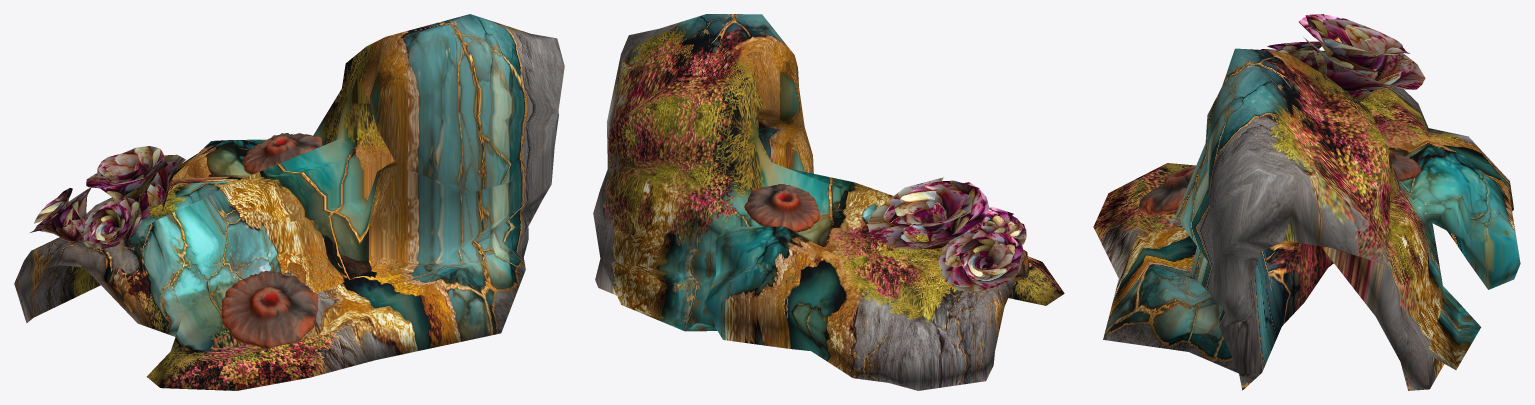
3 views of the same model, side by side, from view 1: azimuth 30°, elevation 25°; view 2: azimuth 150°, elevation 25°; view 3: azimuth 270°, elevation 25° (orthographic). The views are drawn at different scales.
Parts seen in each view (by area): view 1: MSH_Base_05_Main, MSH_Base_05_Coral.002, MSH_Base_05_Coral; view 2: MSH_Base_05_Main, MSH_Base_05_Coral.002, MSH_Base_05_Coral; view 3: MSH_Base_05_Main, MSH_Base_05_Coral.002, MSH_Base_05_Coral.
Boxes of the visible parts, box(x1,y1,x2,y2) form: MSH_Base_05_Main: box(14, 14, 564, 390); MSH_Base_05_Coral.002: box(30, 146, 185, 248); MSH_Base_05_Coral: box(221, 133, 322, 349); MSH_Base_05_Main: box(593, 14, 1064, 390); MSH_Base_05_Coral.002: box(867, 177, 1026, 291); MSH_Base_05_Coral: box(744, 184, 819, 232); MSH_Base_05_Main: box(1093, 48, 1520, 390); MSH_Base_05_Coral.002: box(1260, 14, 1425, 101); MSH_Base_05_Coral: box(1139, 149, 1421, 216).
Bounding box in the file's own units: 2502 × 1340 × 1741.
